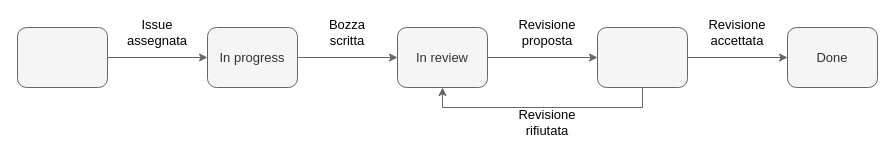
The diagram is 895 pixels wide and 155 high, and some of its shapes have lost their labels. The centre of each missing label's shape, as x and y in pixels:
Backlog: point (62, 57)
In Validazione: point (642, 57)
